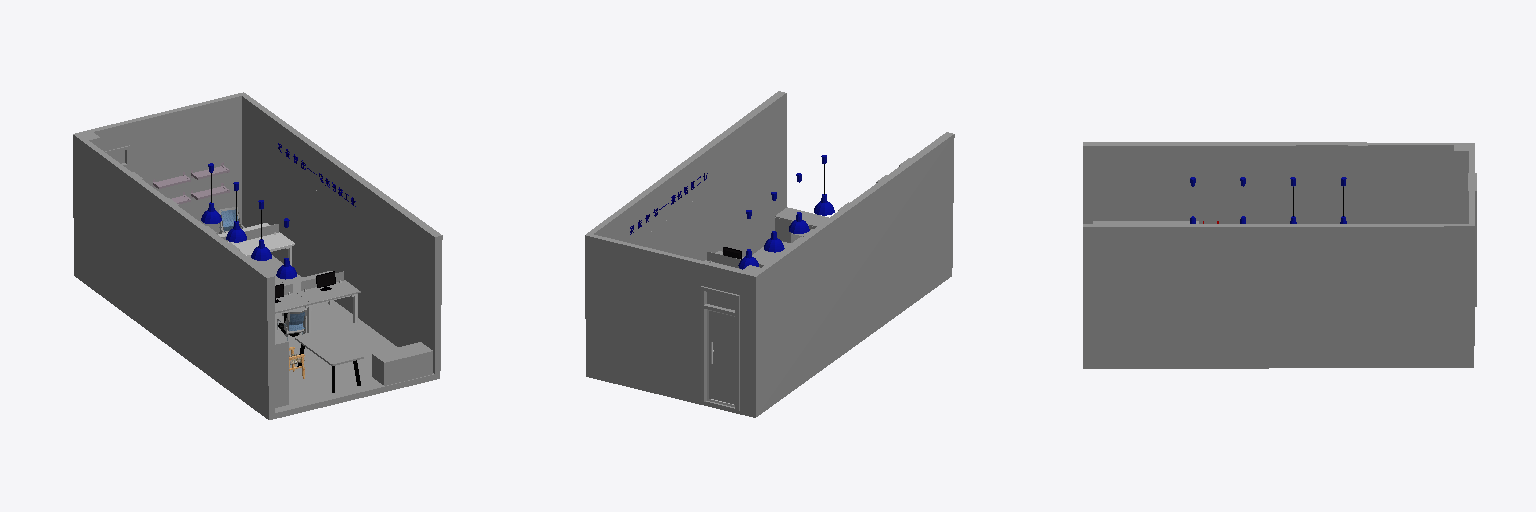
3 renders of one model, left to right at view 1: azimuth 30°, elevation 25°; view 2: azimuth 150°, elevation 25°; view 3: azimuth 270°, elevation 25°, orthographic.
Parts seen in each view (by area): view 1: Box053_Untitled.025, Box014_Untitled.062, Box015_Untitled.101, Line058_Untitled.092, Rectangle004_Untitled.070, Rectangle003_Untitled.100, Box036_Untitled.060, Box068_Untitled.042, Plane014_Untitled.008, Plane013_Untitled.023, Plane012_Untitled.098; view 2: Box053_Untitled.025, Plane003_Untitled.013, Rectangle001_Untitled.057, Line058_Untitled.092, Box014_Untitled.062, Plane014_Untitled.008, Plane013_Untitled.023; view 3: Box053_Untitled.025, Plane015_Untitled.014, Plane011_Untitled.139.
Part boxes in pixels (bbox=[...]): Box053_Untitled.025: bbox=[73, 92, 442, 419]; Box014_Untitled.062: bbox=[372, 342, 432, 385]; Box015_Untitled.101: bbox=[275, 271, 360, 313]; Line058_Untitled.092: bbox=[201, 163, 296, 279]; Rectangle004_Untitled.070: bbox=[295, 329, 363, 365]; Rectangle003_Untitled.100: bbox=[275, 332, 288, 407]; Box036_Untitled.060: bbox=[153, 162, 229, 203]; Box068_Untitled.042: bbox=[218, 223, 294, 265]; Plane014_Untitled.008: bbox=[335, 204, 350, 258]; Plane013_Untitled.023: bbox=[310, 186, 324, 239]; Plane012_Untitled.098: bbox=[285, 168, 299, 220]; Box053_Untitled.025: bbox=[585, 91, 954, 417]; Plane003_Untitled.013: bbox=[709, 311, 734, 404]; Rectangle001_Untitled.057: bbox=[701, 286, 739, 410]; Line058_Untitled.092: bbox=[738, 155, 834, 269]; Box014_Untitled.062: bbox=[775, 207, 828, 242]; Plane014_Untitled.008: bbox=[688, 194, 702, 247]; Plane013_Untitled.023: bbox=[662, 212, 677, 254]; Box053_Untitled.025: bbox=[1083, 142, 1474, 368]; Plane015_Untitled.014: bbox=[1308, 185, 1337, 223]; Plane011_Untitled.139: bbox=[1232, 185, 1262, 223].
Size of the model in its own units: 4.25 by 3.3 by 8.26.
34 materials, 5 textured.